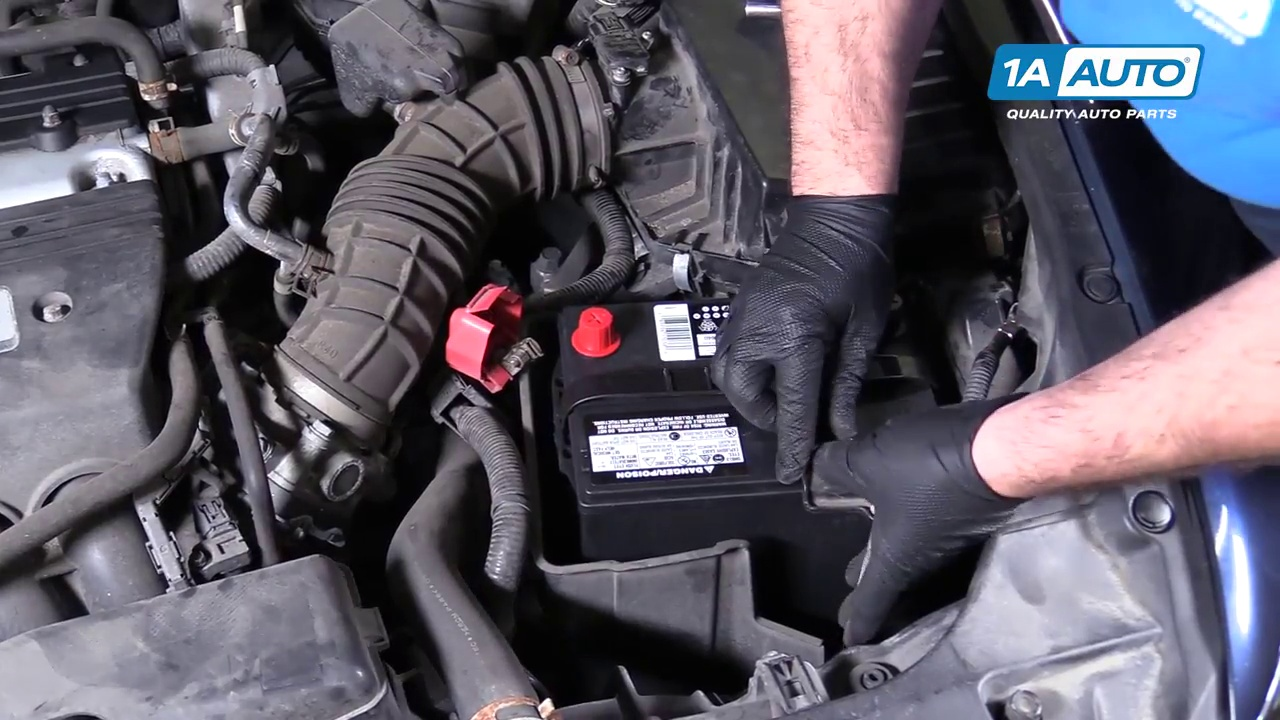battery: (547, 289, 938, 497)
pos_disconnected: (427, 257, 648, 406)
